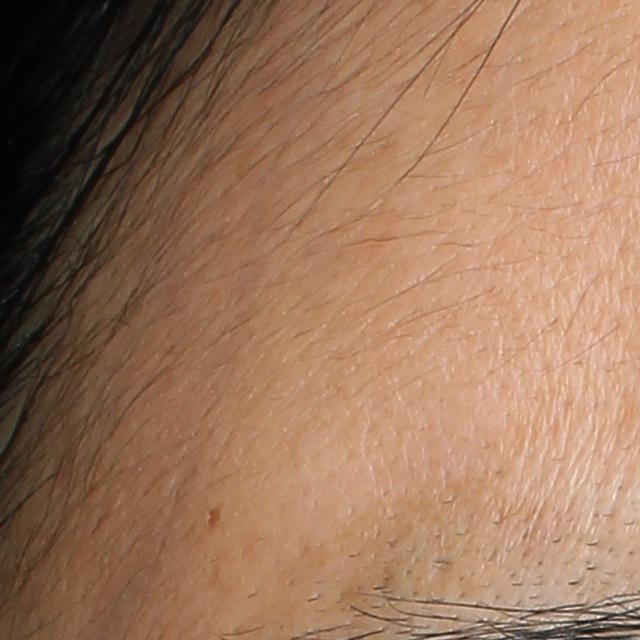melasma: (207, 503, 224, 530)
